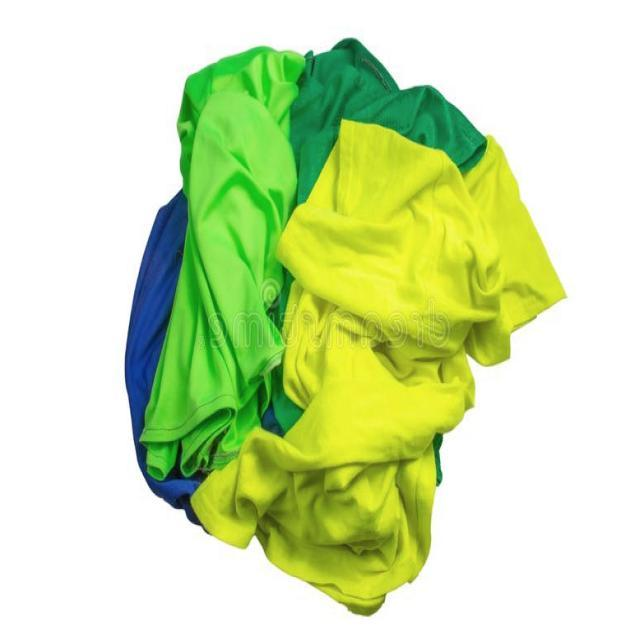clothes: (82, 28, 557, 610)
